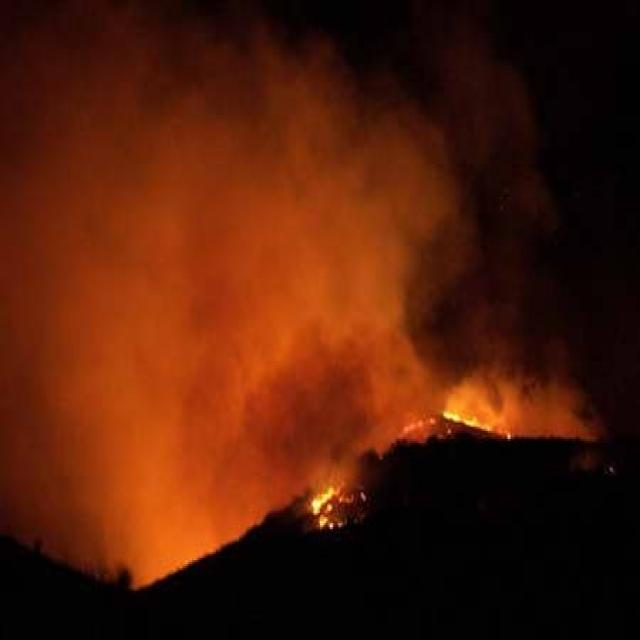Fire: (310, 484, 353, 531), (439, 406, 496, 434)
Smoke: (1, 22, 608, 590)
